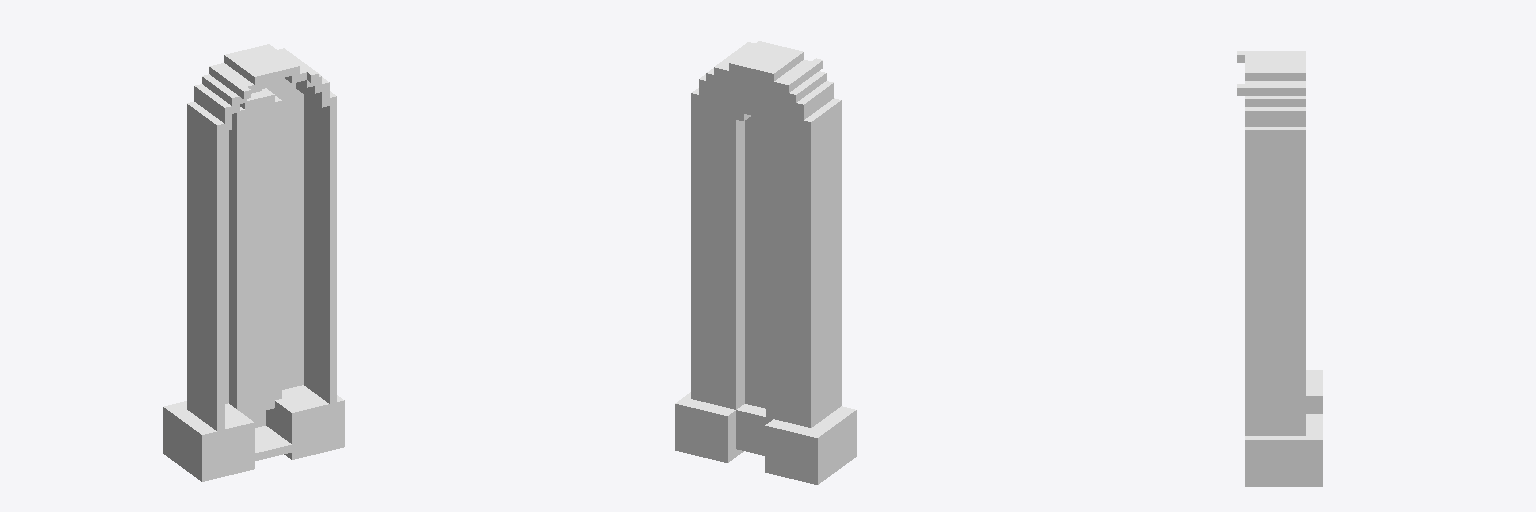
The model's file is CastleWindow.obj.
3 renders of one model, left to right at view 1: azimuth 30°, elevation 25°; view 2: azimuth 150°, elevation 25°; view 3: azimuth 270°, elevation 25°, orthographic.
Visible parts, largest first — view 1: object 1; view 2: object 1; view 3: object 1.
Part boxes in pixels (bbox=[...]): object 1: bbox=[163, 44, 344, 481]; object 1: bbox=[675, 41, 856, 484]; object 1: bbox=[1237, 51, 1322, 486].
Size of the model in its own units: 1.9 by 5 by 1.